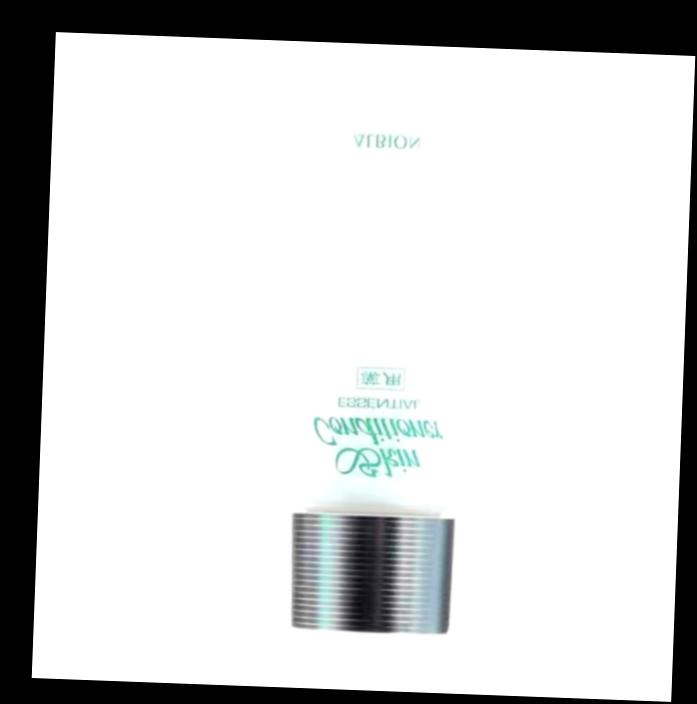cosmetic: (279, 88, 472, 638)
